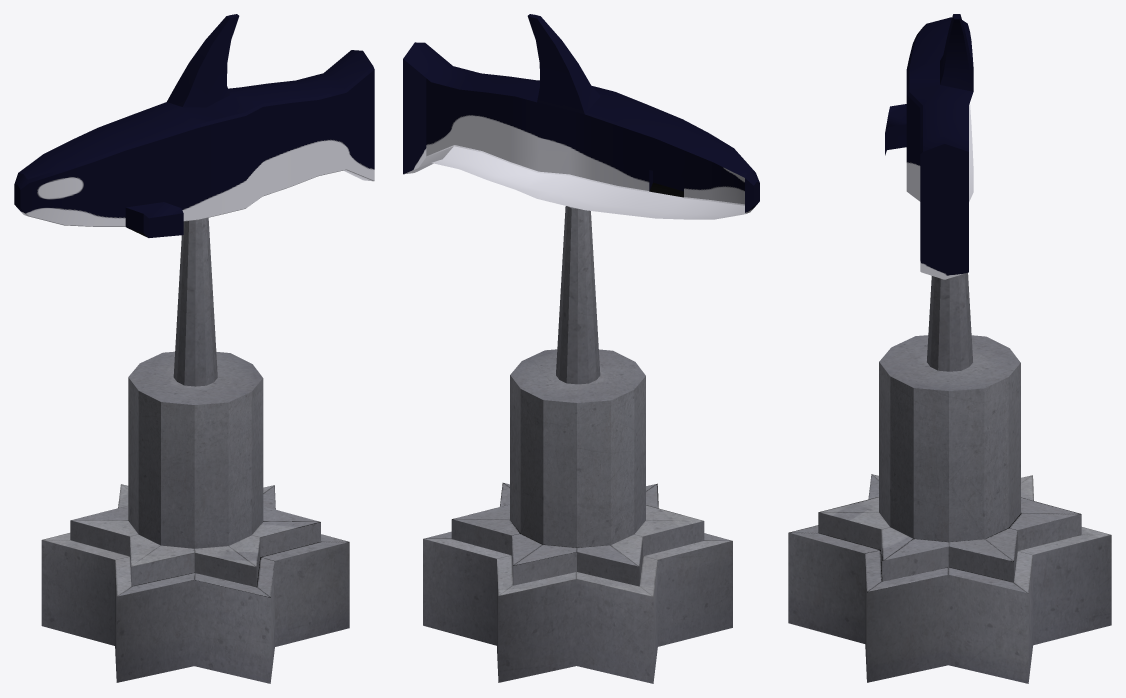
3 views of the same model, side by side, from view 1: azimuth 30°, elevation 25°; view 2: azimuth 150°, elevation 25°; view 3: azimuth 270°, elevation 25° (orthographic). The views are drawn at different scales.
Visible parts, largest first — view 1: Cylinder001, Box001; view 2: Cylinder001, Box001; view 3: Cylinder001, Box001.
Part boxes in pixels (<box>): Cylinder001: <box>41,217,349,683</box>; Box001: <box>14,14,374,237</box>; Cylinder001: <box>423,206,732,683</box>; Box001: <box>403,14,759,219</box>; Cylinder001: <box>788,273,1111,683</box>; Box001: <box>885,14,973,279</box>.
Size of the model in its own units: 50.09 by 83.64 by 38.98.
Materials: 2 (2 with a texture image).
